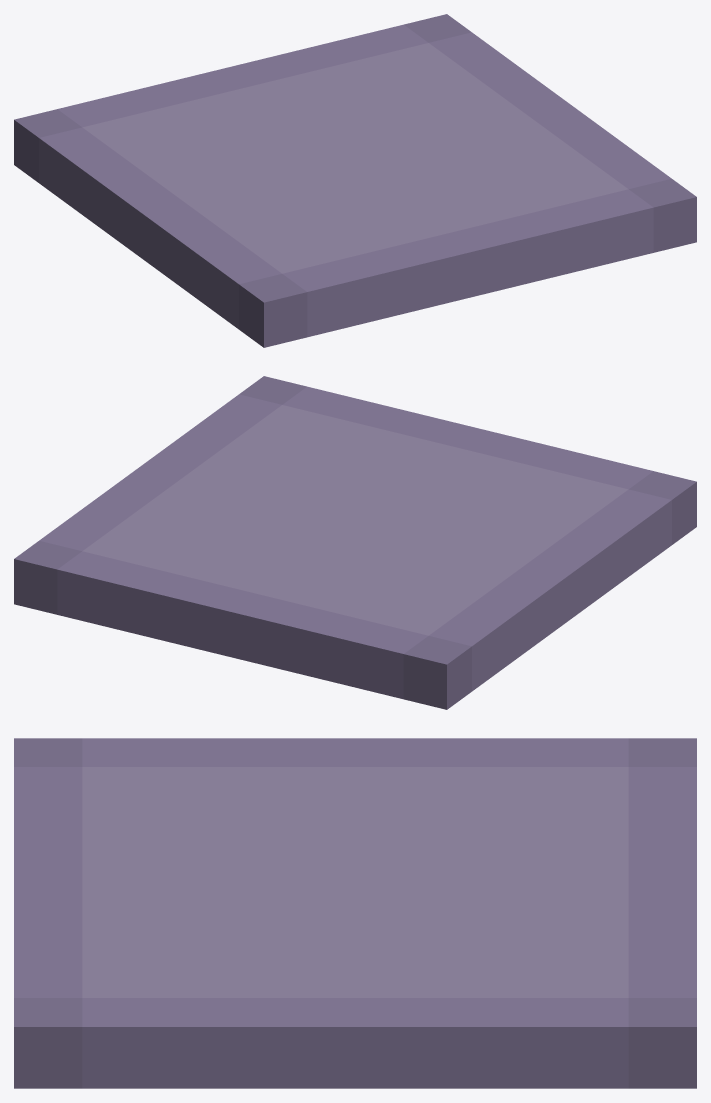
File: Tile_Floor-3.obj
3 renders of one model, top to bottom at view 1: azimuth 30°, elevation 25°; view 2: azimuth 150°, elevation 25°; view 3: azimuth 270°, elevation 25°, orthographic. The views are drawn at different scales.
Parts seen in each view (by area): view 1: Tile_Floor-3; view 2: Tile_Floor-3; view 3: Tile_Floor-3.
Boxes of the visible parts, left/top/right/bottom form: Tile_Floor-3: left=14, top=14, right=696, bottom=347; Tile_Floor-3: left=14, top=376, right=696, bottom=709; Tile_Floor-3: left=14, top=738, right=696, bottom=1088.
Size of the model in its own units: 10 by 1 by 10.
Materials: 1 (1 with a texture image).
